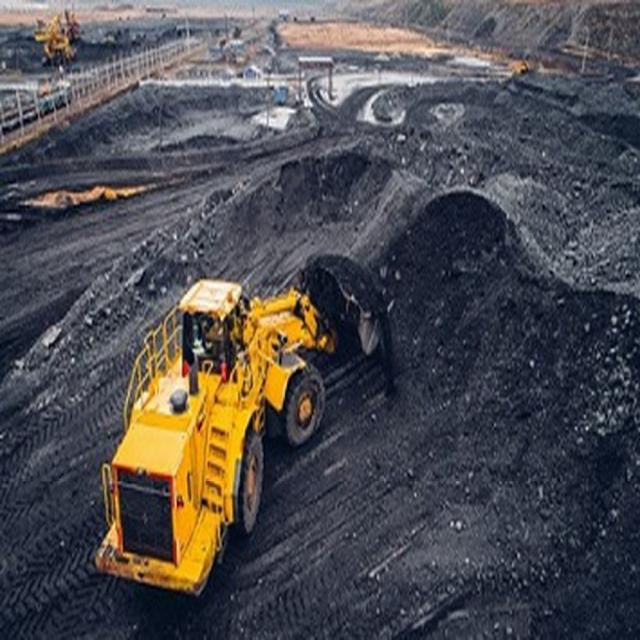buldozerpayloadergrader: (98, 240, 391, 609)
